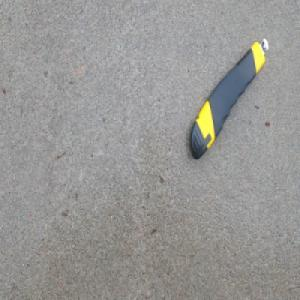Cutter: (187, 39, 268, 164)
